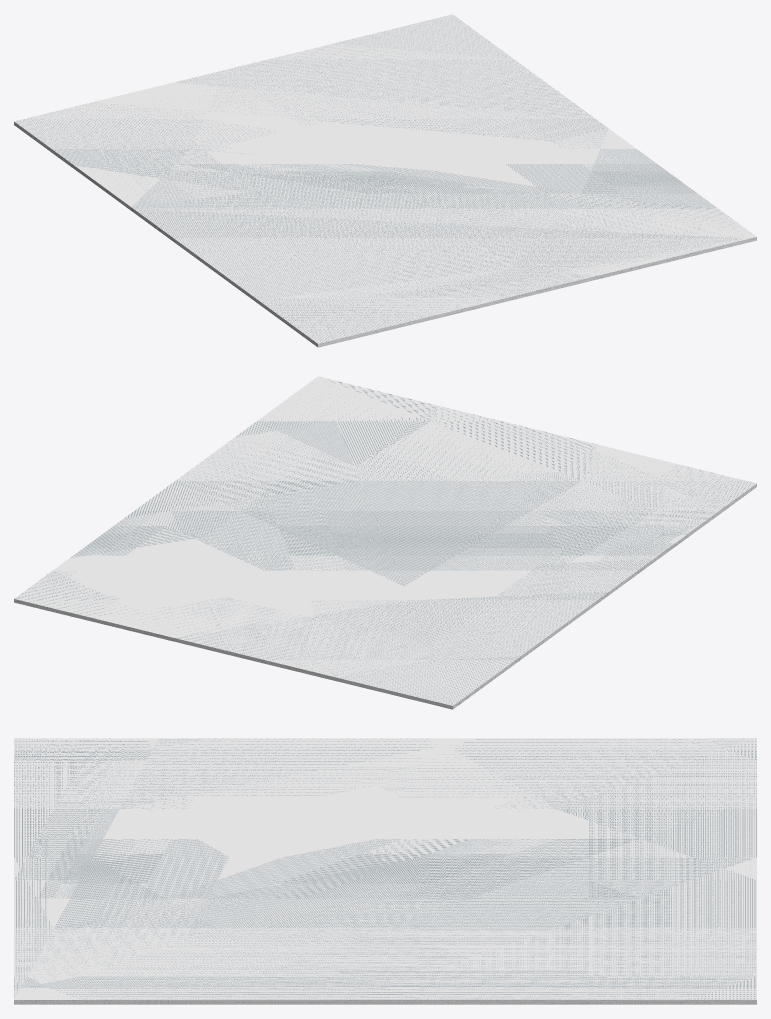
The model's file is Floor.obj.
The picture shows the model from 3 angles, top to bottom: view 1: azimuth 30°, elevation 25°; view 2: azimuth 150°, elevation 25°; view 3: azimuth 270°, elevation 25°; orthographic projection. The views are drawn at different scales.
Parts seen in each view (by area): view 1: Mesh1 Component_1_1 Model; view 2: Mesh1 Component_1_1 Model; view 3: Mesh1 Component_1_1 Model.
Boxes of the visible parts, x1,y1,x2,y2 form: Mesh1 Component_1_1 Model: (14,14,756,347); Mesh1 Component_1_1 Model: (14,376,756,709); Mesh1 Component_1_1 Model: (14,738,756,1004).
Size of the model in its own units: 10 by 0.08 by 12.
